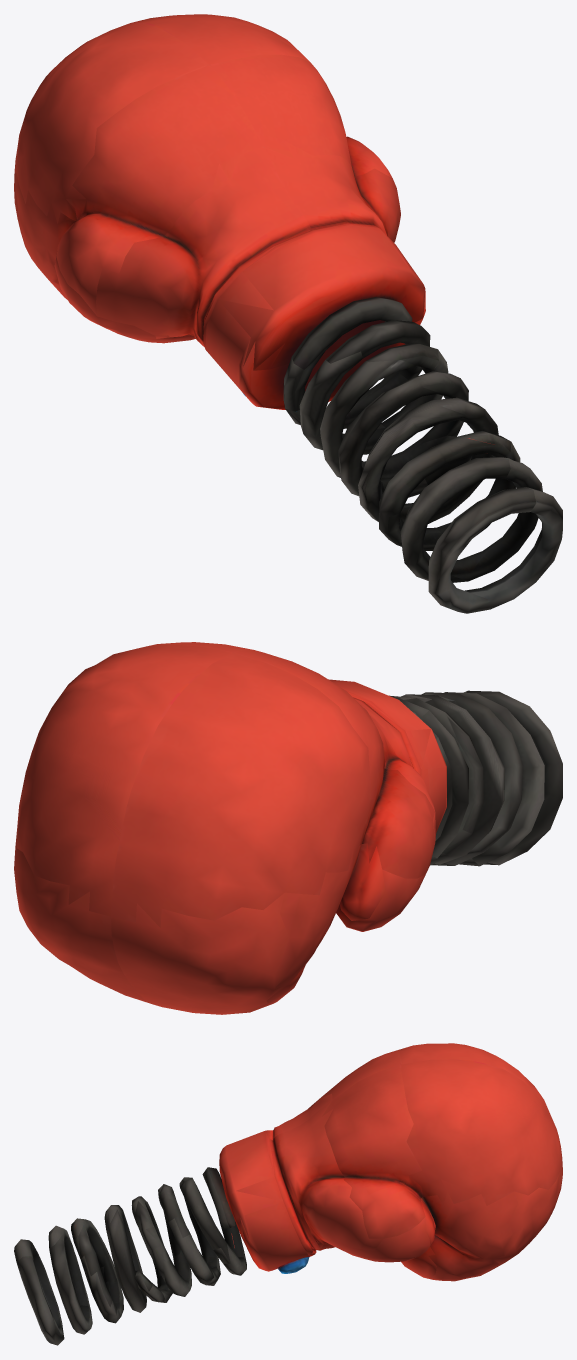
Rendered from MODEL_FirstPersonFist.fbx.
The picture shows the model from 3 angles, top to bottom: view 1: azimuth 30°, elevation 25°; view 2: azimuth 150°, elevation 25°; view 3: azimuth 270°, elevation 25°; orthographic projection. The views are drawn at different scales.
Parts seen in each view (by area): view 1: punch; view 2: punch; view 3: punch.
Boxes of the visible parts, box(x1,y1,x2,y2) form: punch: box(14, 14, 562, 613); punch: box(14, 642, 562, 1014); punch: box(14, 1043, 562, 1345).
Size of the model in its own units: 70.67 by 80.83 by 149.
1 material, 1 textured.
